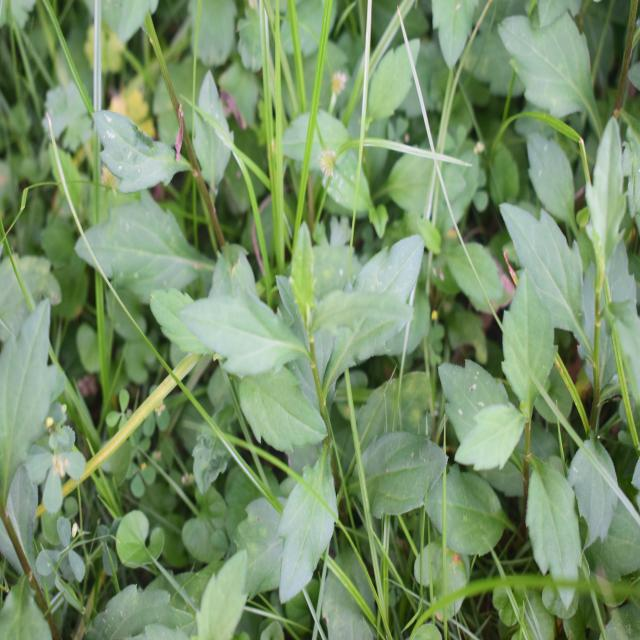Indian aster: (190, 167, 393, 607), (431, 256, 587, 592)
